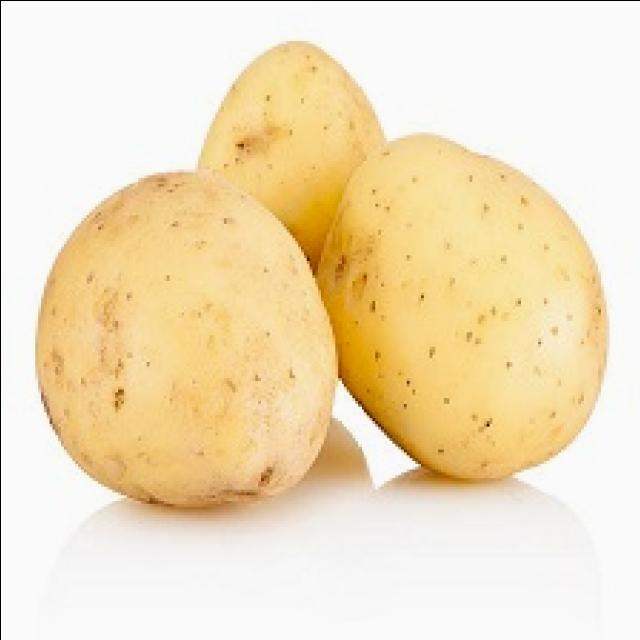healthy: (26, 26, 614, 519)
